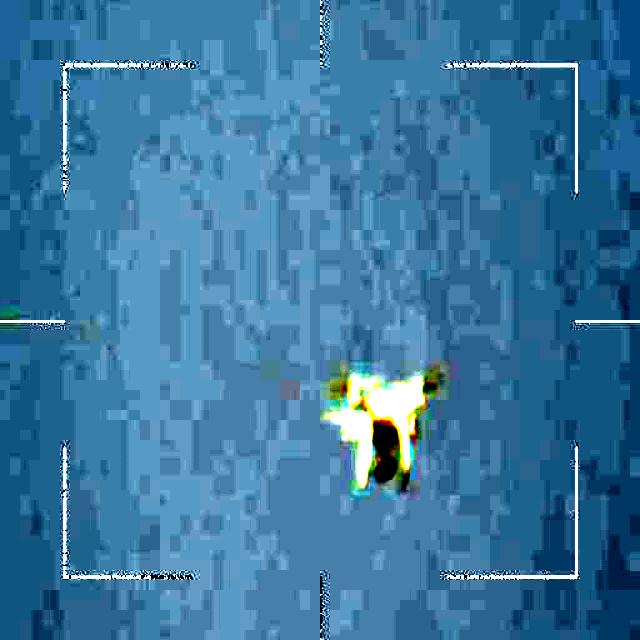bird: (322, 370, 439, 489)
